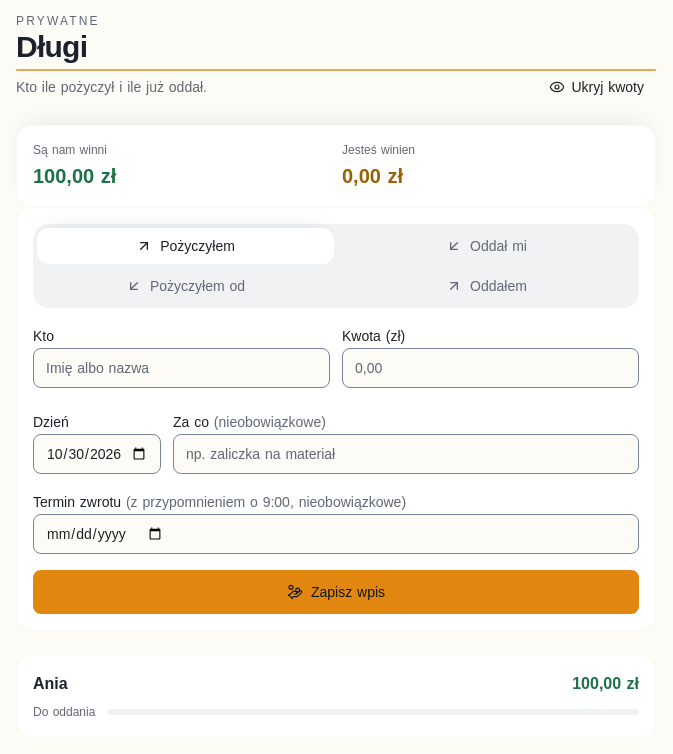
Test: DebtsView — ukrywanie kwot (plan długów 3.3) › przełącznik chowa kwoty w podsumowaniu i na liście, a potem je przywraca
Click the button "Ukryj kwoty".
click(597, 87)  # box left=538, top=69, right=656, bottom=105
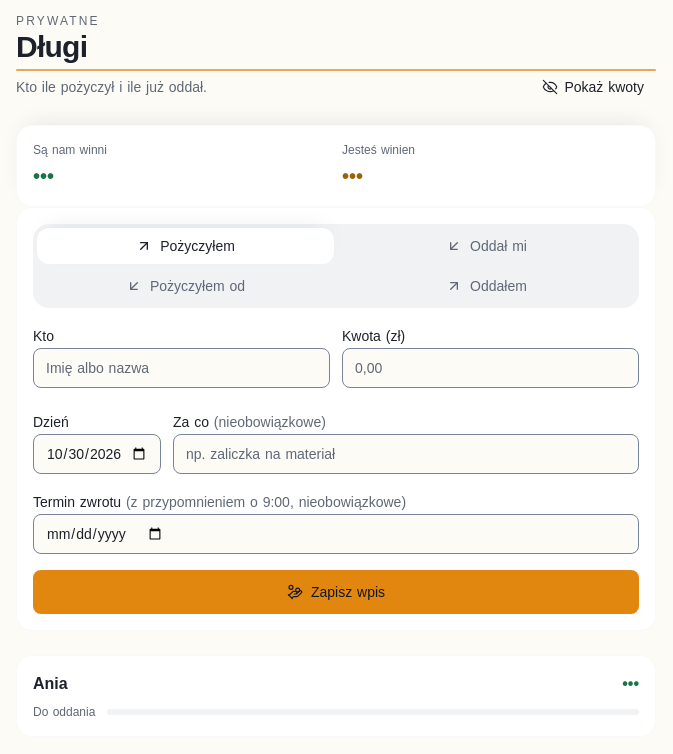
Result: the text with test id "debts-owed" reads "•••" at left=33, top=165, right=54, bottom=187
Result: the button "Ania ••• Do oddania" is shown at left=16, top=655, right=656, bottom=737
Result: the text "100,00 zł" is gone
Click the button "Pokaż kwoty".
click(593, 87)  # box left=530, top=69, right=656, bottom=105
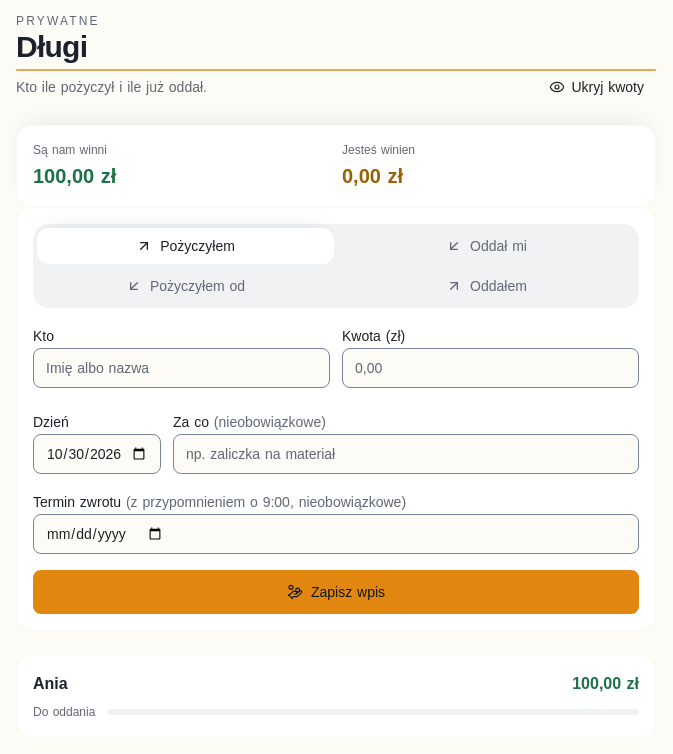
Result: the text with test id "debts-owed" reads "100,00 zł" at left=33, top=165, right=116, bottom=187
